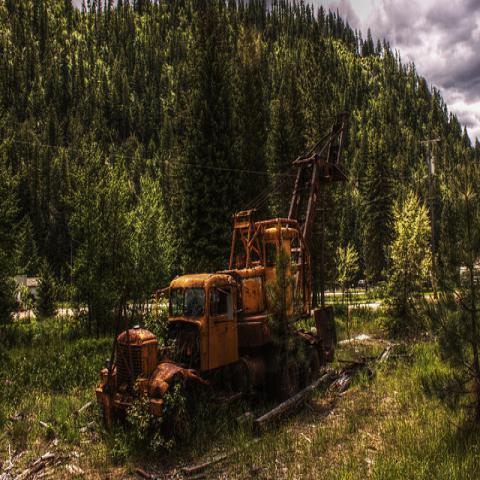truck: (95, 217, 319, 456)
